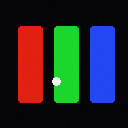0 point: (52, 77, 60, 85)
